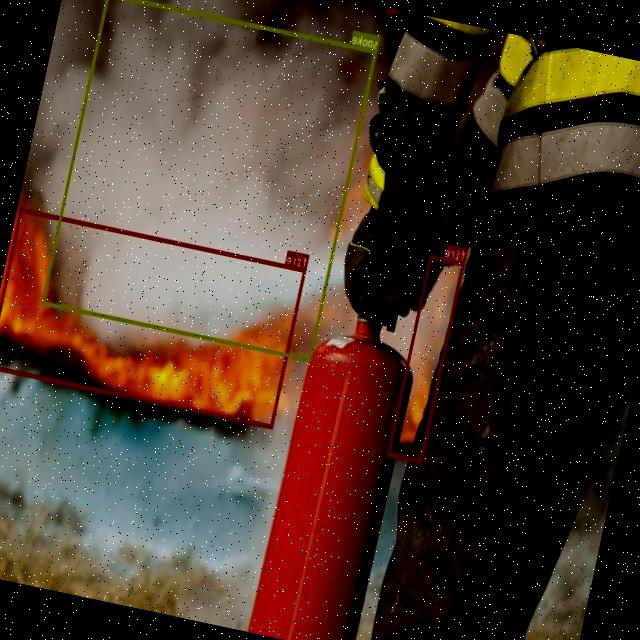fire: (0, 207, 306, 427), (388, 255, 464, 462)
smoke: (41, 0, 377, 361)
